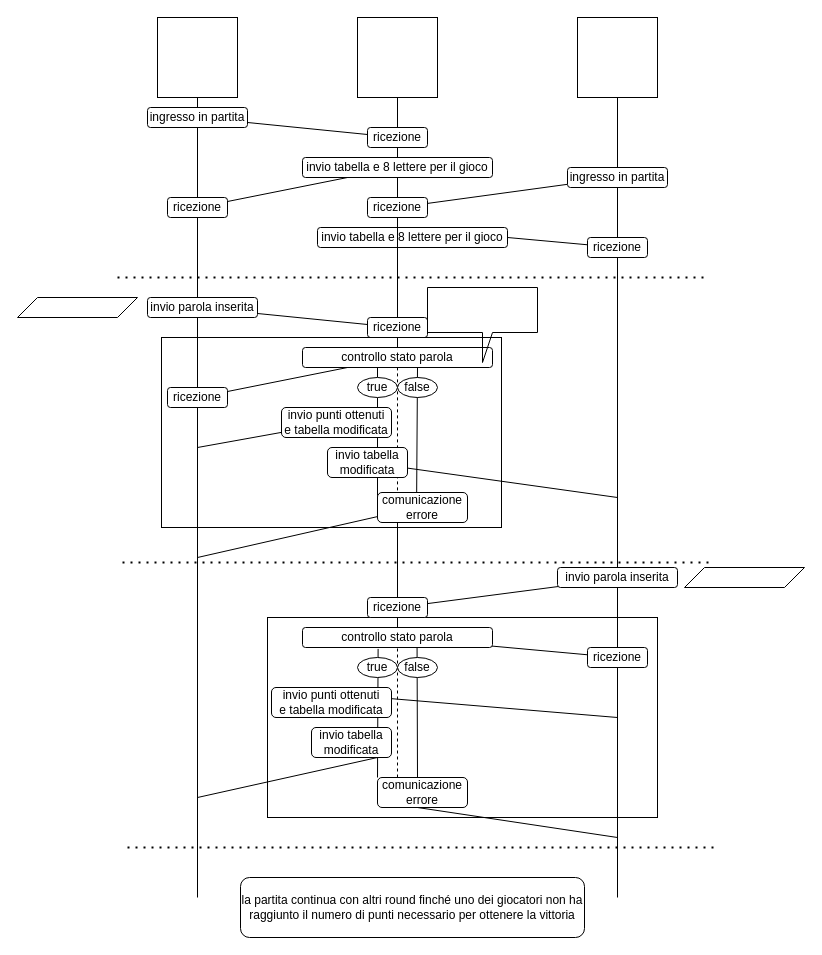
The diagram is 822 pixels wide and 955 high, and some of its shapes have lost their labels. The shapes that lost their labels are listed below. From the top down, each one's centre as x and y in pixels, then its label:
At point (197, 57): "Client 1".
At point (397, 57): "Server".
At point (617, 57): "Client 2".
At point (77, 307): "Turno 1".
At point (482, 324): "true=parola corretta false=parola errata".
At point (744, 577): "Turno 2".
